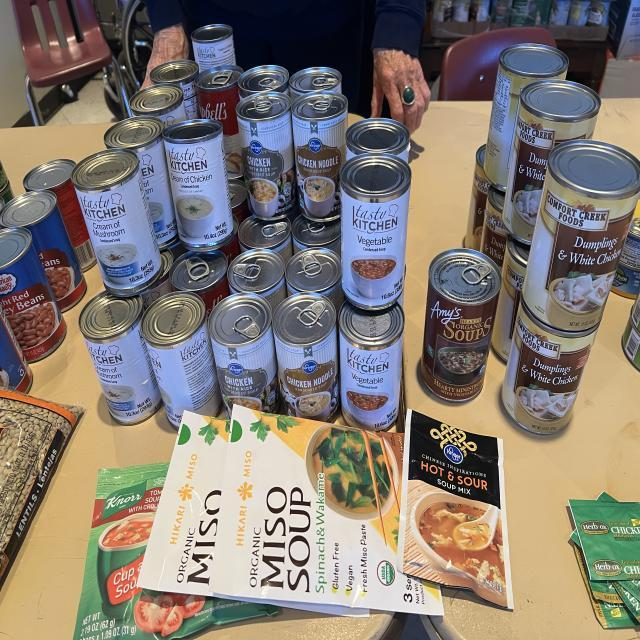Canned Food: (524, 140, 640, 332), (502, 78, 601, 242), (71, 148, 161, 297), (501, 298, 598, 433), (421, 248, 501, 402), (485, 43, 569, 188), (340, 153, 411, 310), (141, 290, 221, 427), (79, 292, 161, 425), (0, 190, 86, 312), (104, 115, 178, 247), (209, 293, 280, 418), (0, 227, 65, 362), (272, 292, 339, 422), (164, 120, 232, 248), (339, 300, 405, 430), (22, 158, 96, 272), (236, 92, 298, 220), (291, 93, 348, 220), (195, 65, 244, 178), (285, 247, 345, 313), (491, 247, 525, 362), (170, 250, 230, 315), (228, 248, 286, 312), (150, 60, 199, 120), (345, 118, 410, 163), (185, 215, 240, 265), (465, 145, 490, 252), (239, 215, 294, 263), (129, 85, 188, 127), (480, 187, 508, 268), (191, 23, 236, 72), (291, 215, 341, 255), (141, 250, 174, 310), (250, 140, 262, 155)
